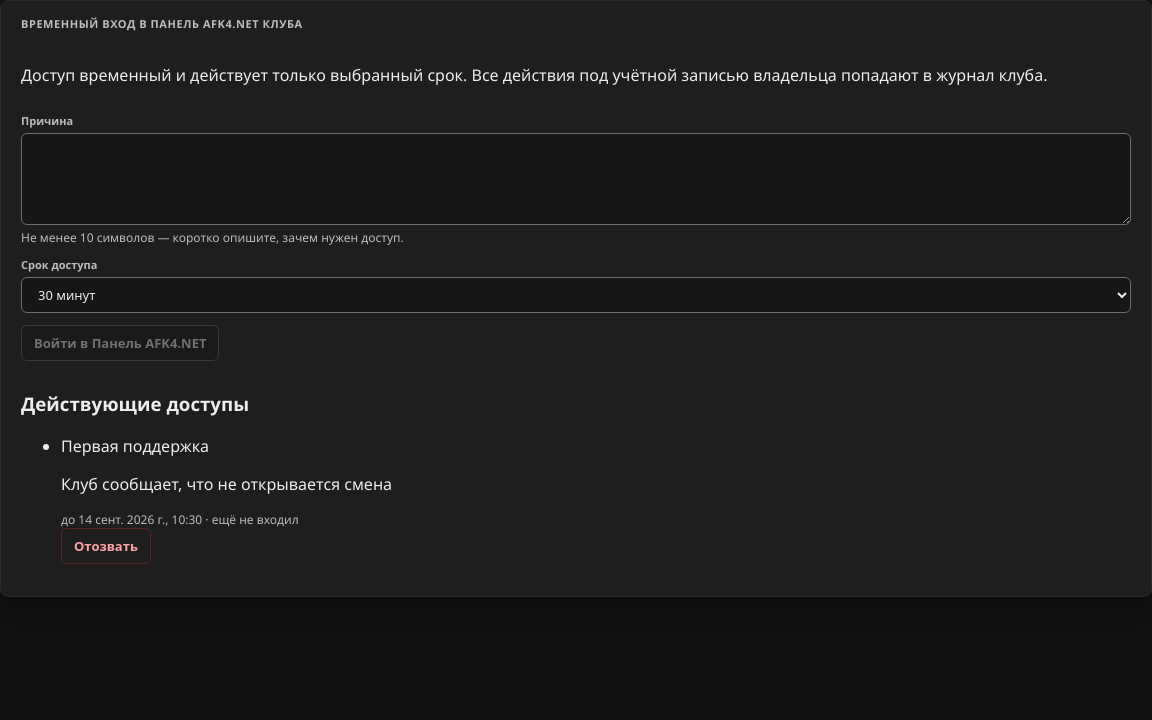
Test: обрывает доступ и обновляет список
Click the button "Отозвать".
click(106, 546)  # box [61,528,151,564]
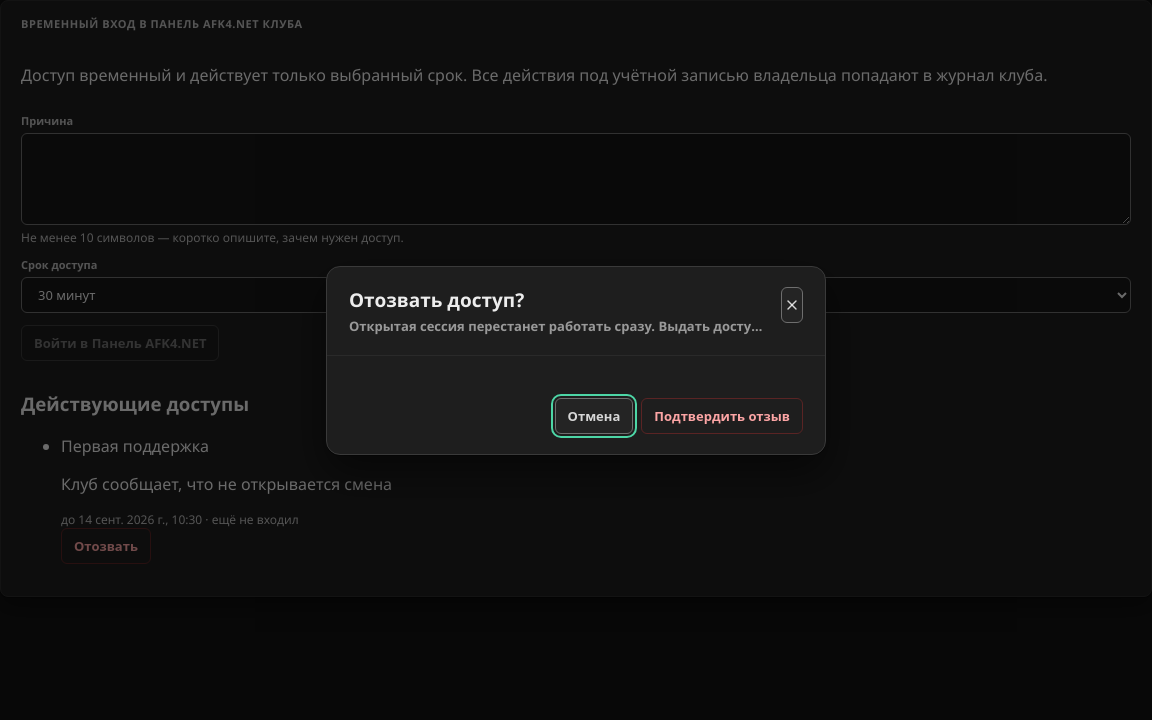
Click the button "Подтвердить отзыв".
click(722, 416)  # box [641,398,803,434]
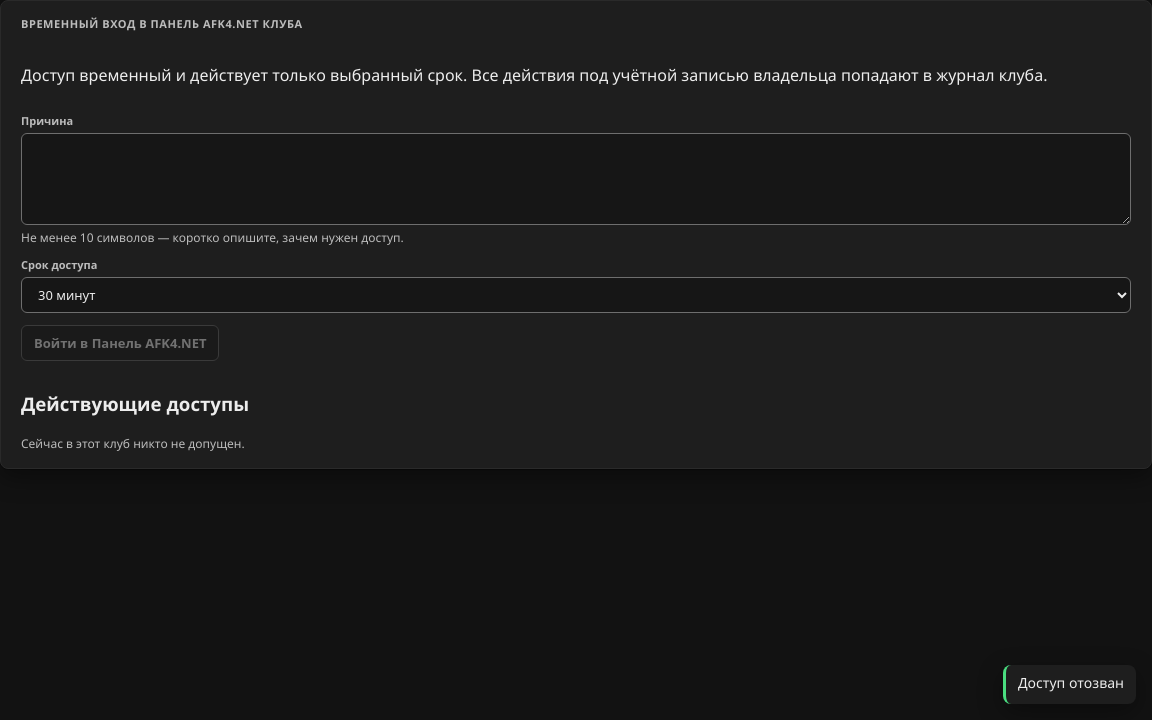
expect the text "Сейчас в этот клуб никто не допущен." is shown: met, box [21,435,245,452]
